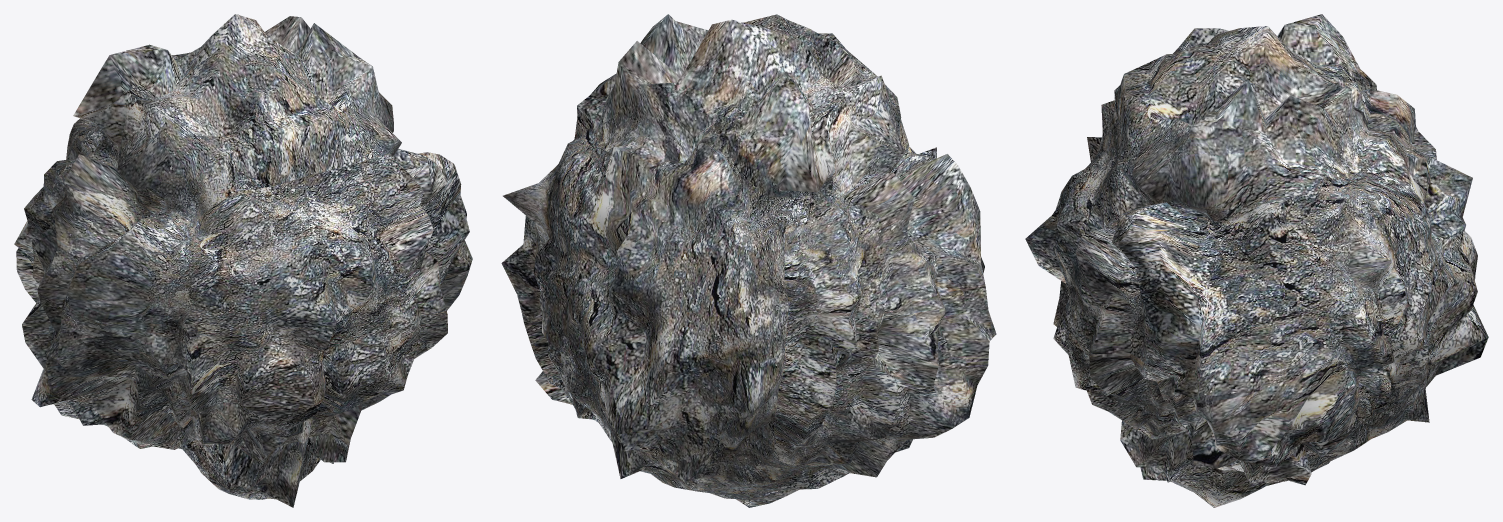
Rendered from rock.obj.
3 views of the same model, side by side, from view 1: azimuth 30°, elevation 25°; view 2: azimuth 150°, elevation 25°; view 3: azimuth 270°, elevation 25° (orthographic). The views are drawn at different scales.
Parts seen in each view (by area): view 1: sphere_1_sphere_1_Material.001; view 2: sphere_1_sphere_1_Material.001; view 3: sphere_1_sphere_1_Material.001.
Part boxes in pixels (x1,y1,x2,y2): sphere_1_sphere_1_Material.001: (14, 14, 472, 507); sphere_1_sphere_1_Material.001: (501, 14, 996, 507); sphere_1_sphere_1_Material.001: (1025, 14, 1488, 507).
Size of the model in its own units: 2.64 by 2.79 by 2.48.
1 material, 1 textured.
